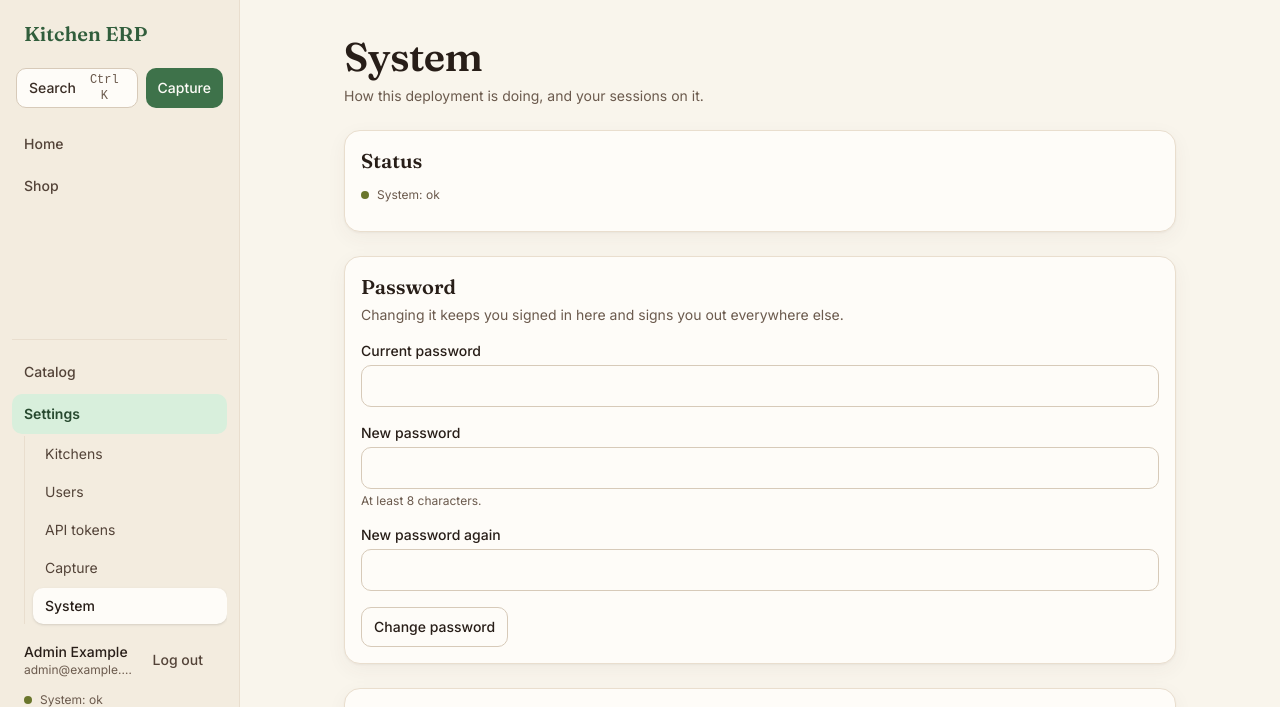
Test case: the search palette (UI-2.8) › says search isn't working, never 'no matches', when it fails
This screenshot has width=1280, height=707.
expect the heading "System" is shown: met, box [344,32,482,81]
Type keys "{Control>}k{/Control}"
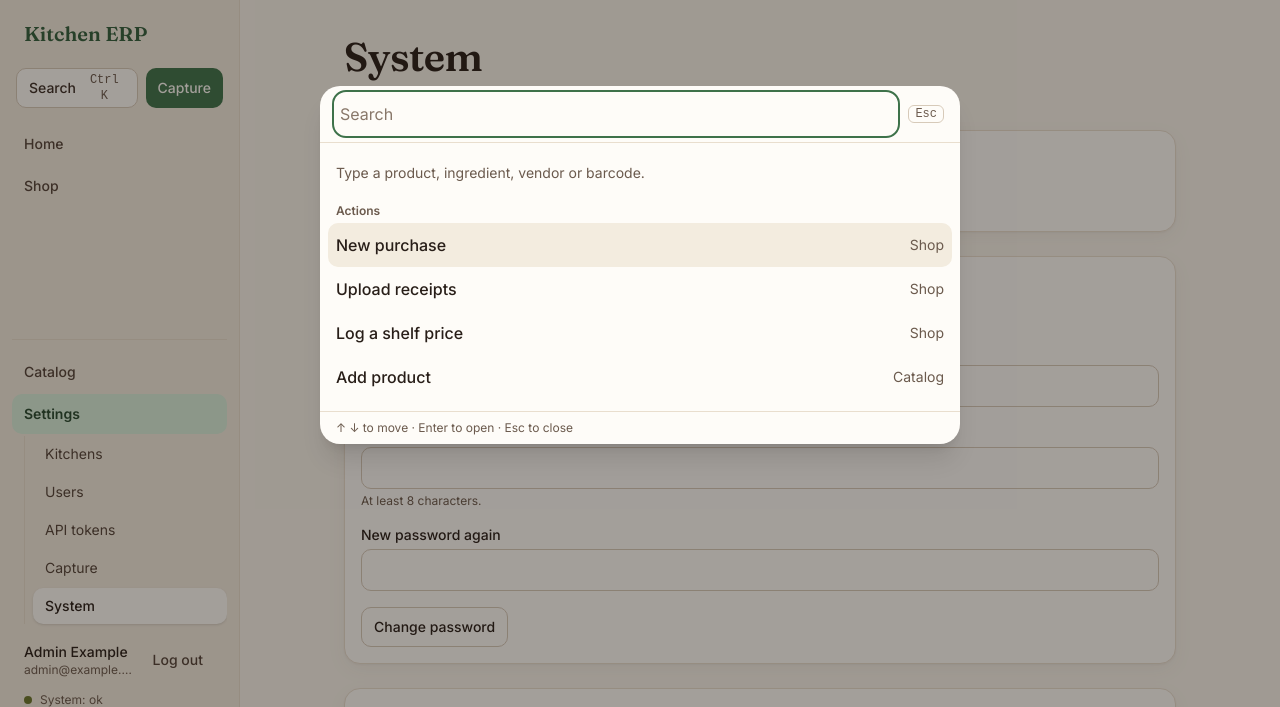
Type "basil" into the dropdown at point(616, 114), box [336,94,896,134]
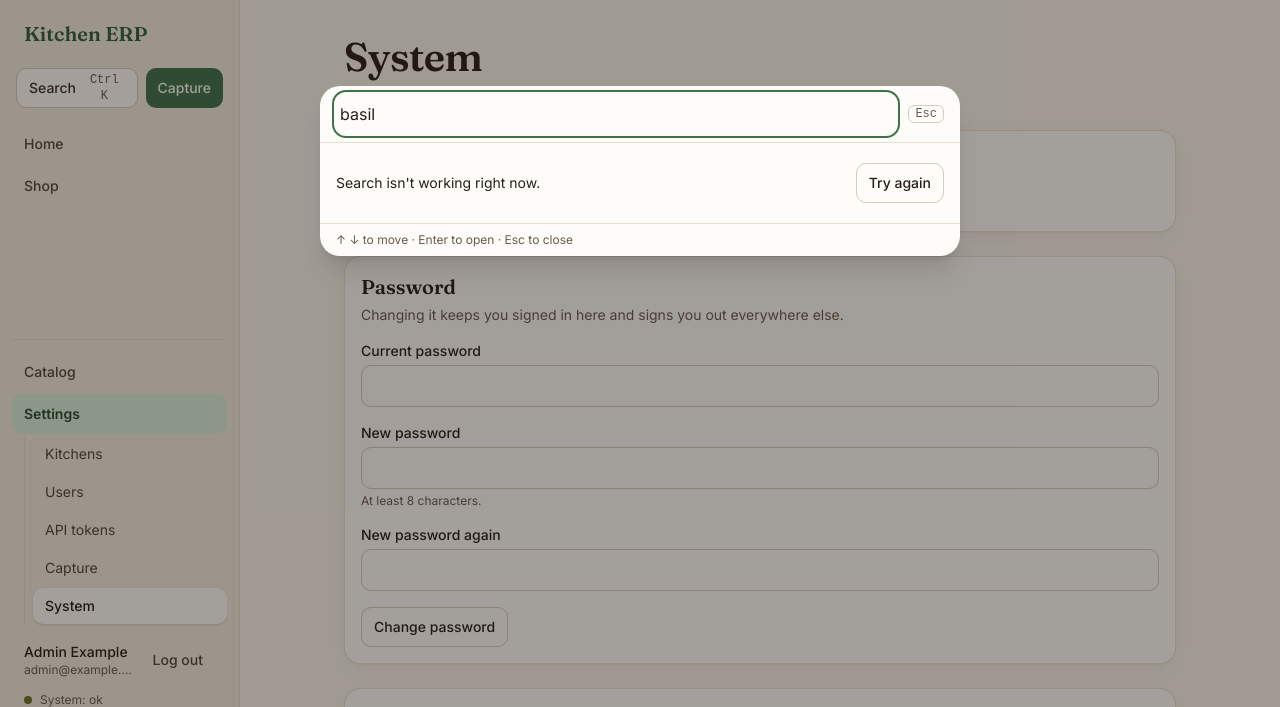
expect the message shows "Search isn't working right now.": met, box [336,174,540,191]
Click the button "Try again" at point(900, 183), box [856,163,944,203]
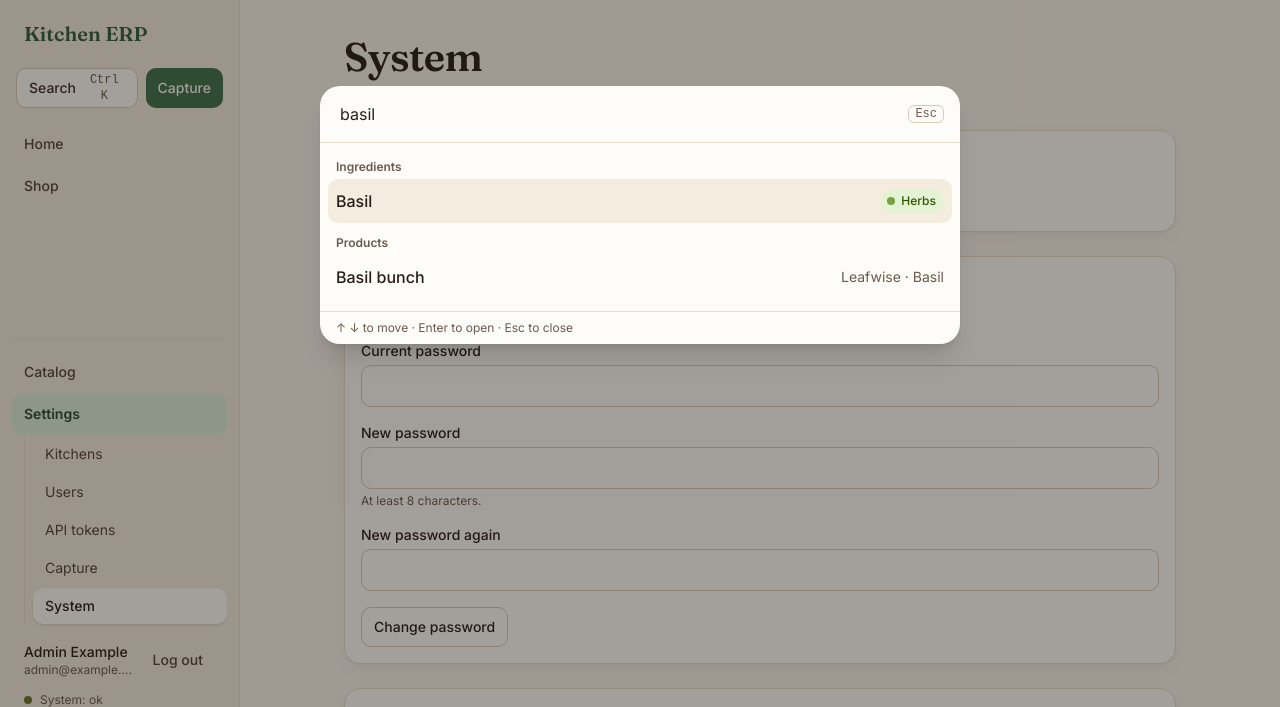
expect the list is shown: met, box [328,151,952,303]
